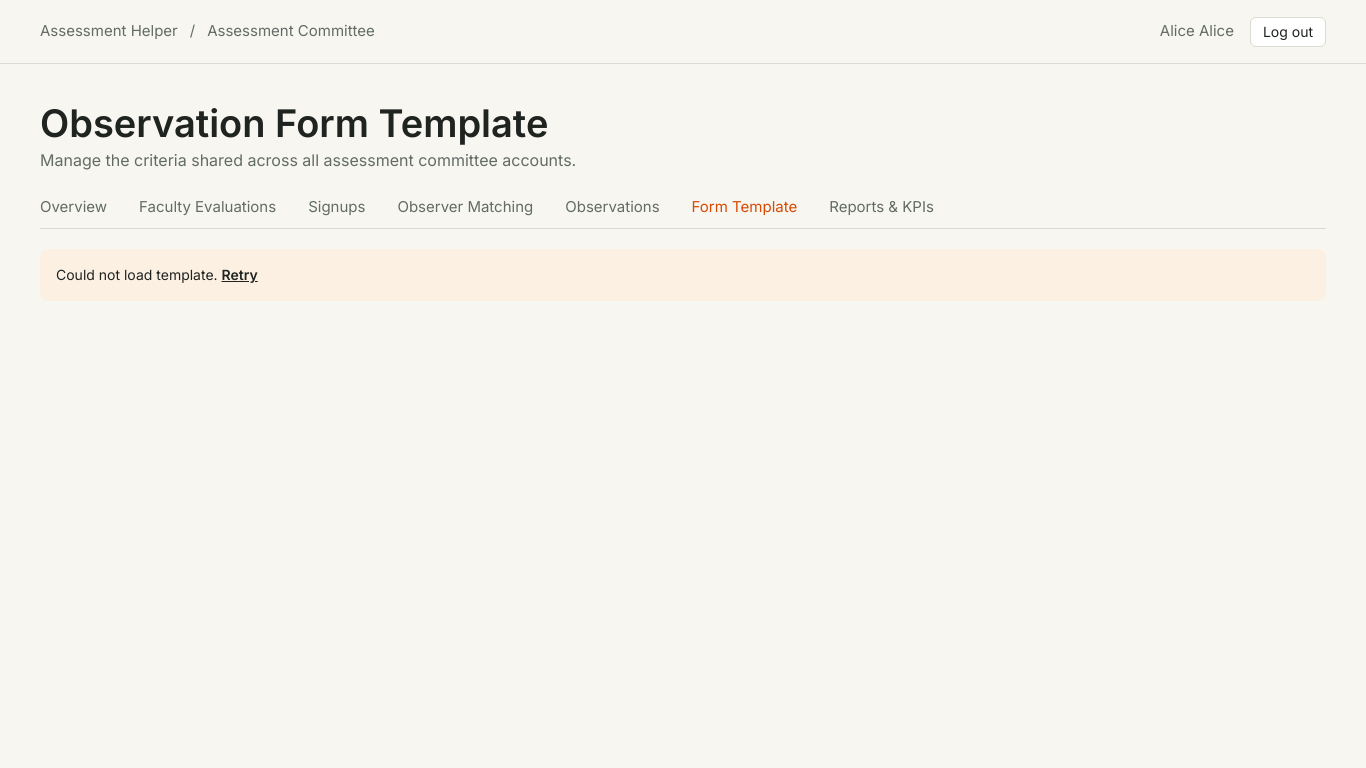
Test case: load failures support retry and preview includes only selected criteria
The width and height of the screenshot is (1366, 768).
Check: the message "Could not load template. Retry" is shown, box left=40, top=249, right=1326, bottom=301
Click the button "Retry" at coordinates (240, 275), box left=222, top=265, right=258, bottom=285
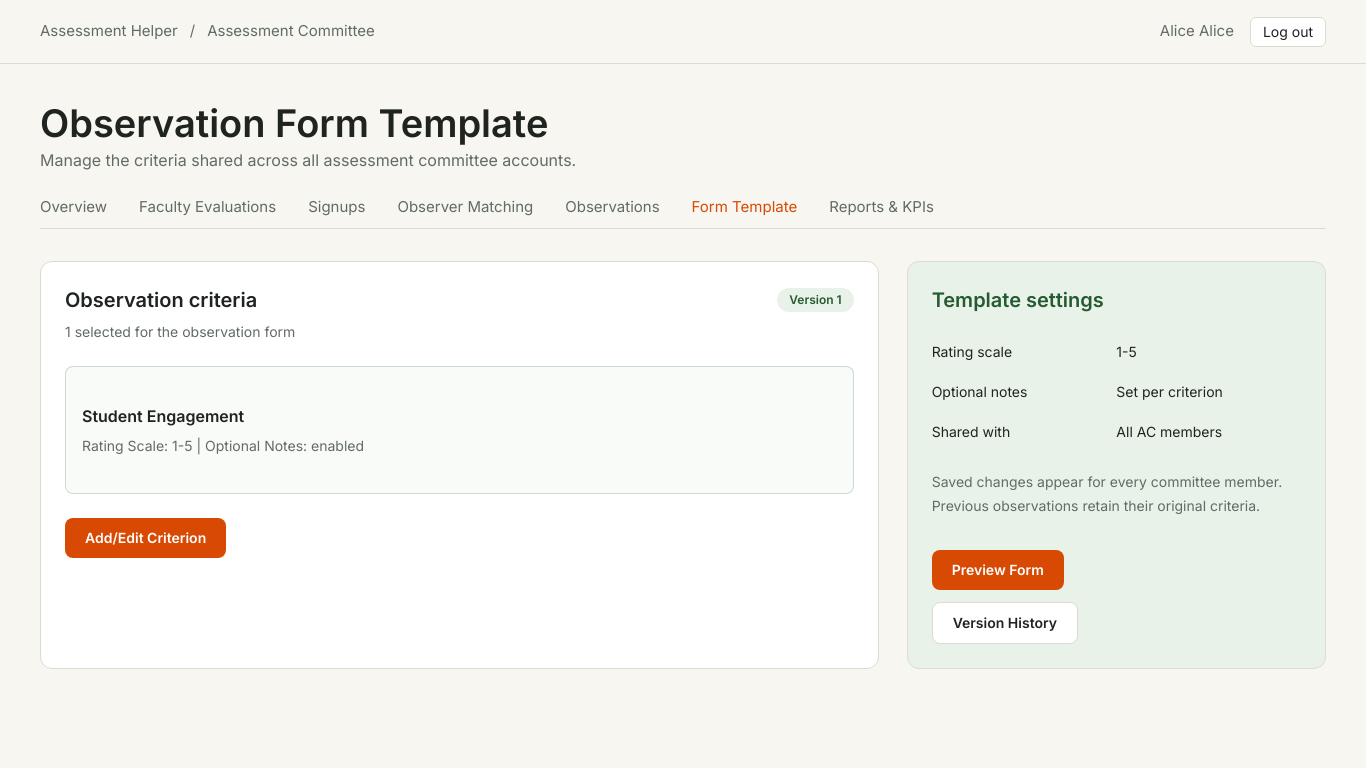
Click the button "Preview Form" at coordinates (998, 570), box left=932, top=550, right=1064, bottom=590
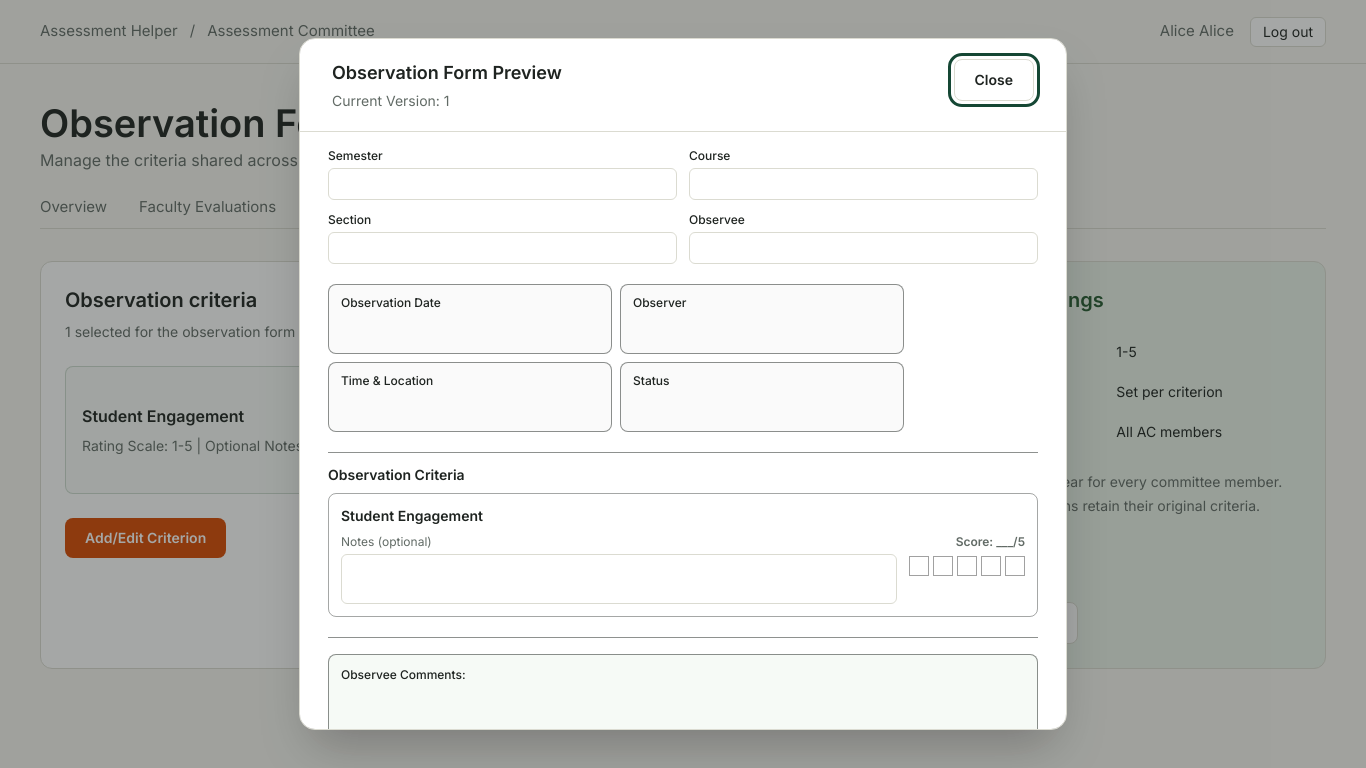
Check: the heading "Student Engagement" is shown, box left=341, top=507, right=483, bottom=524
Click the button "Close" at coordinates (994, 80), box left=954, top=59, right=1034, bottom=101
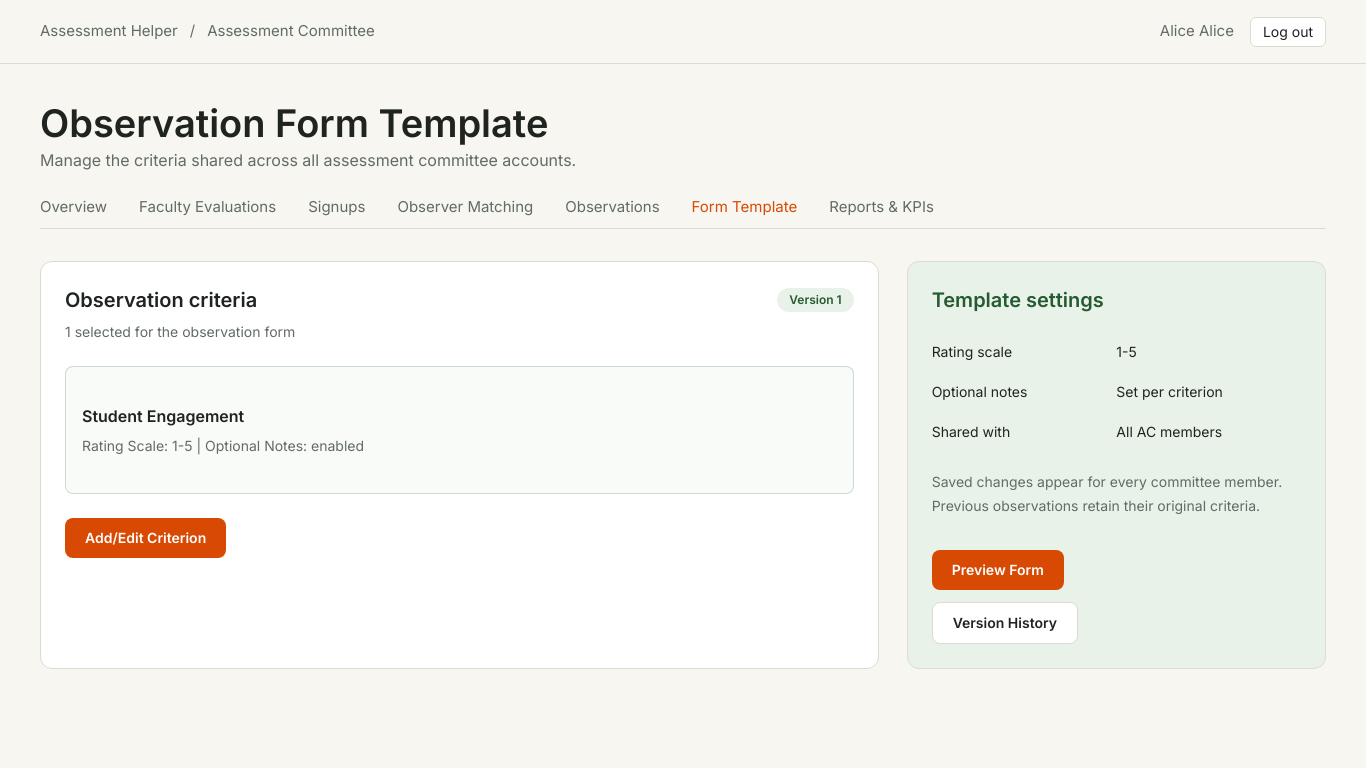
Check: the dialog is gone
